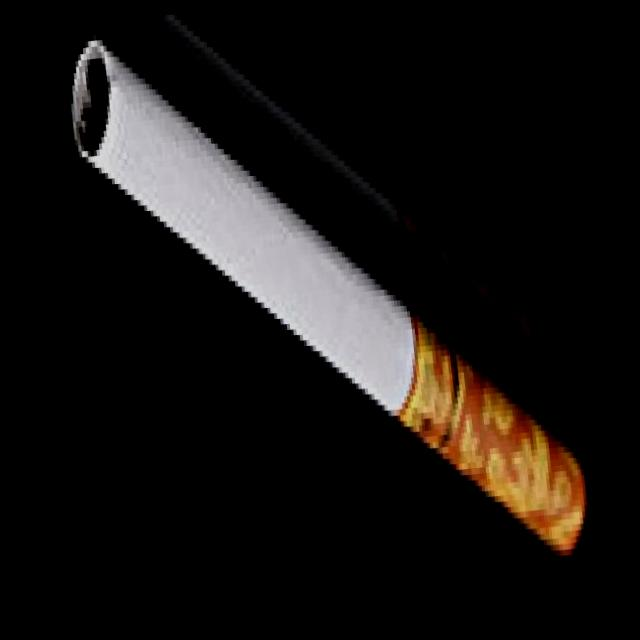smoke: (43, 0, 590, 610)
